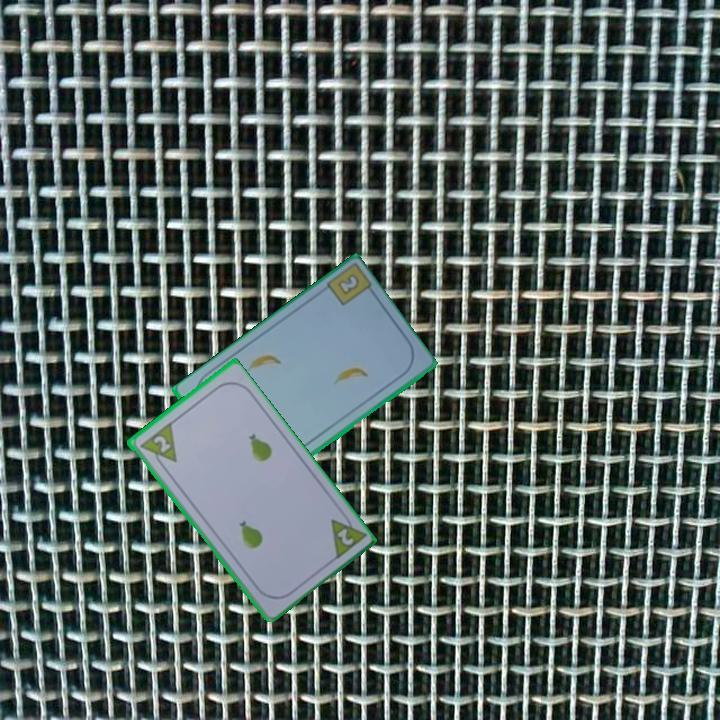2b: (334, 270, 362, 298)
2p: (135, 420, 179, 473), (333, 524, 356, 548)
